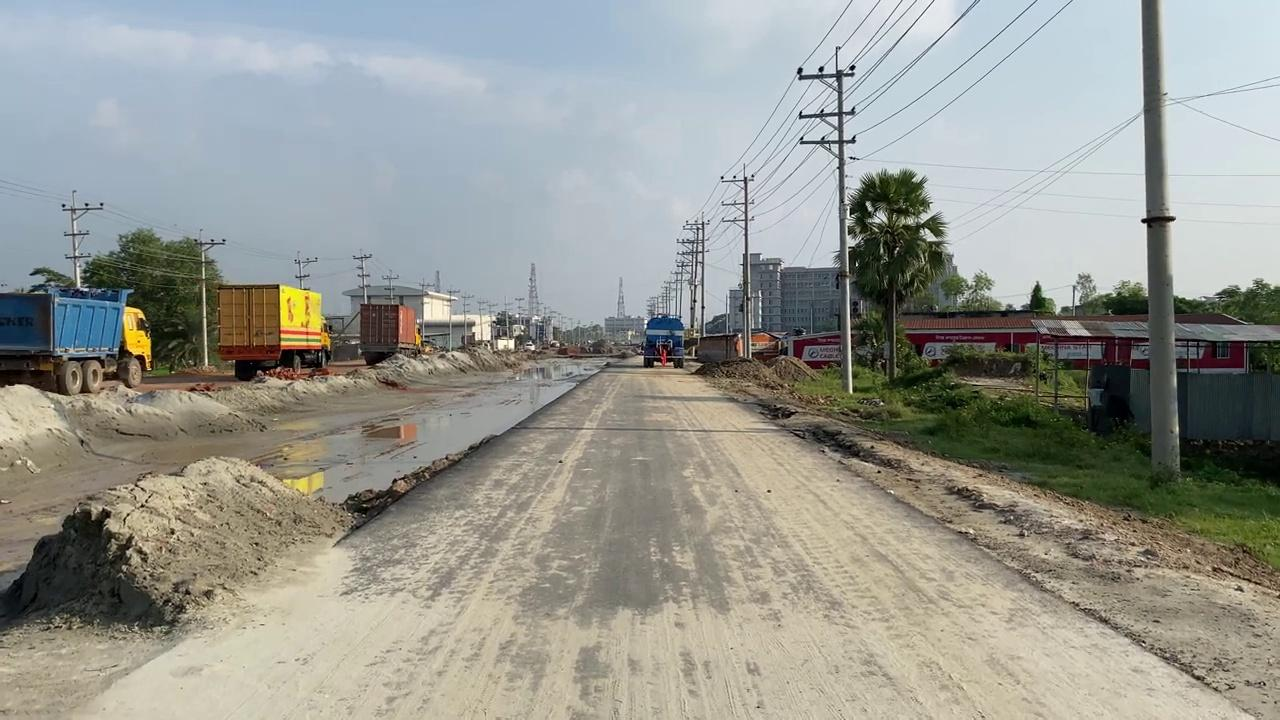Pole: (1140, 0, 1181, 478)
Sidewalk: (247, 354, 609, 515)
Stuck-water: (659, 347, 667, 366)
Traffic-sign: (841, 166, 950, 383)
Tree: (0, 284, 153, 394), (215, 283, 332, 381), (358, 302, 422, 365), (642, 313, 685, 368)
